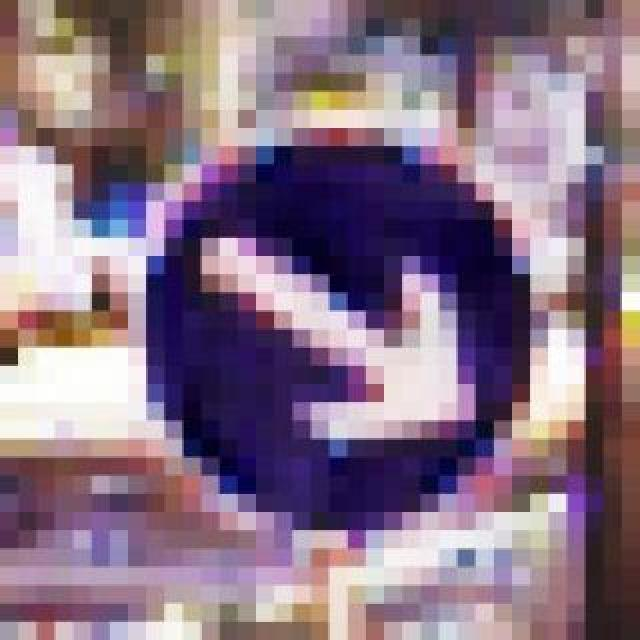keep right: (110, 92, 530, 532)
